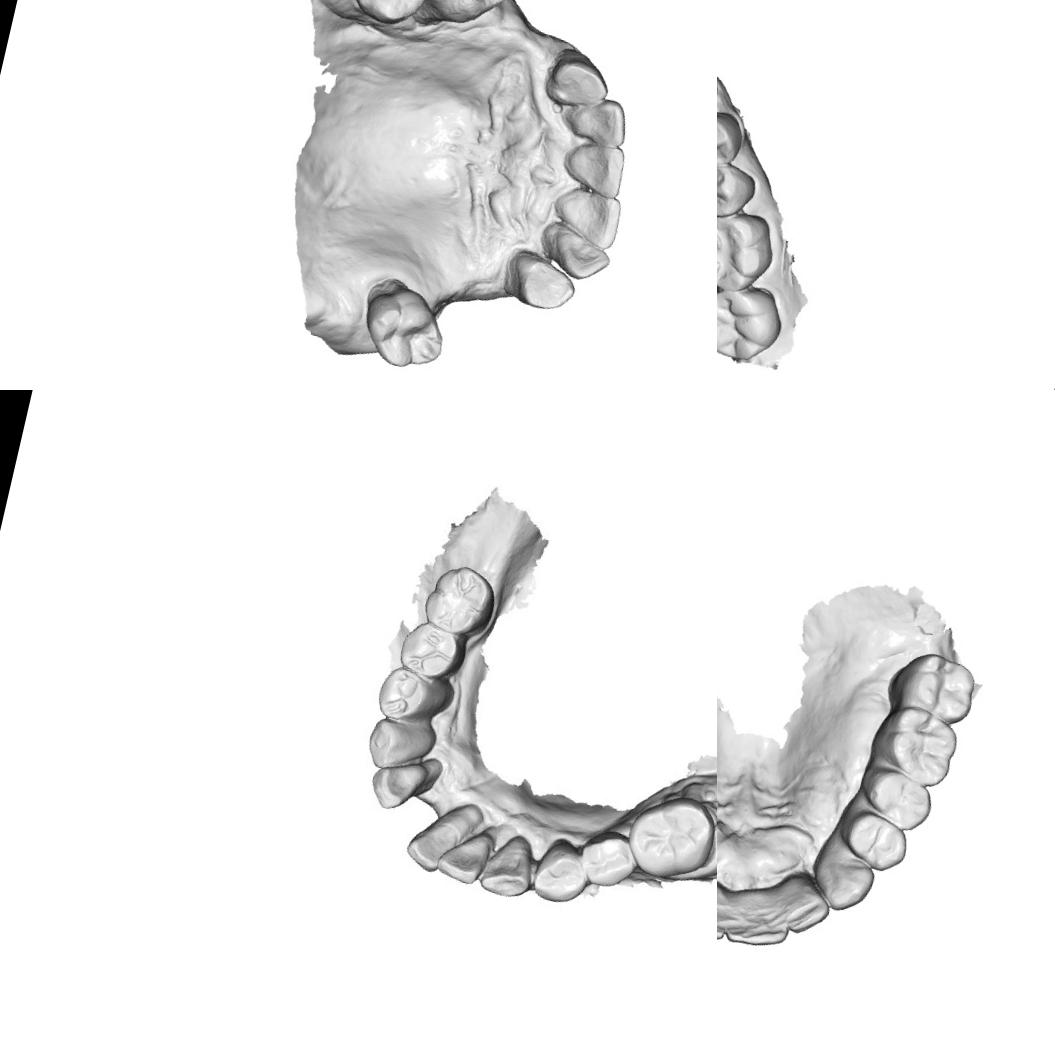canine: (804, 840, 881, 918), (359, 708, 440, 781), (471, 826, 542, 906), (501, 247, 582, 317), (540, 44, 618, 116)
incisor: (533, 219, 617, 287), (398, 803, 472, 878), (546, 184, 626, 252), (768, 869, 838, 942), (556, 134, 630, 200), (364, 752, 435, 819), (561, 90, 634, 151), (721, 897, 794, 956), (433, 827, 492, 891), (717, 884, 735, 944)
molar: (352, 272, 456, 378), (616, 783, 717, 890), (864, 699, 964, 792), (882, 644, 982, 727), (416, 554, 504, 646), (717, 275, 788, 371), (717, 201, 781, 301), (407, 0, 521, 43), (342, 0, 442, 33)
premolar: (849, 762, 939, 836), (832, 804, 914, 876), (392, 615, 467, 690), (368, 660, 446, 728), (529, 830, 594, 910), (574, 826, 642, 894), (717, 156, 761, 226), (717, 104, 749, 174)
